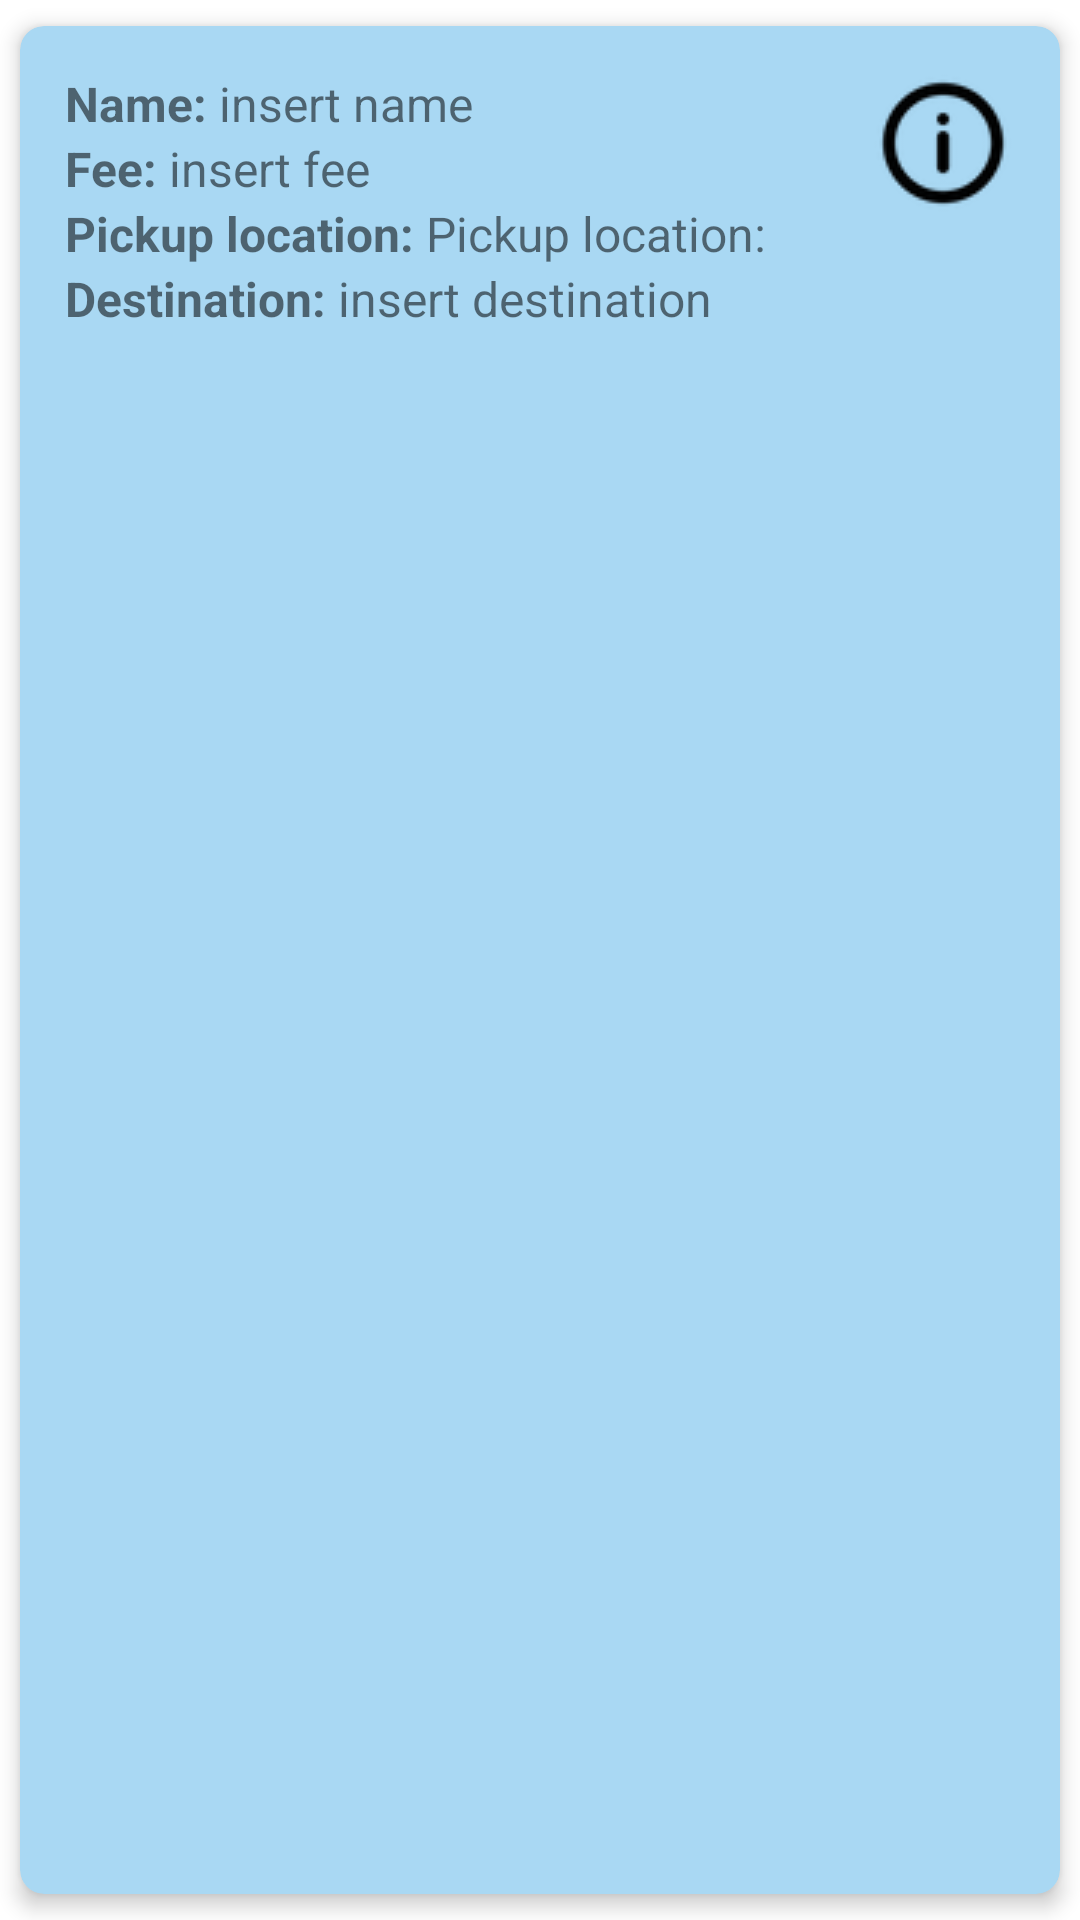

Named icons in this screenshot (1080*1920) and their bounding boxes, (x1, y1, x2, y2):
info: (882, 82, 1004, 204)
